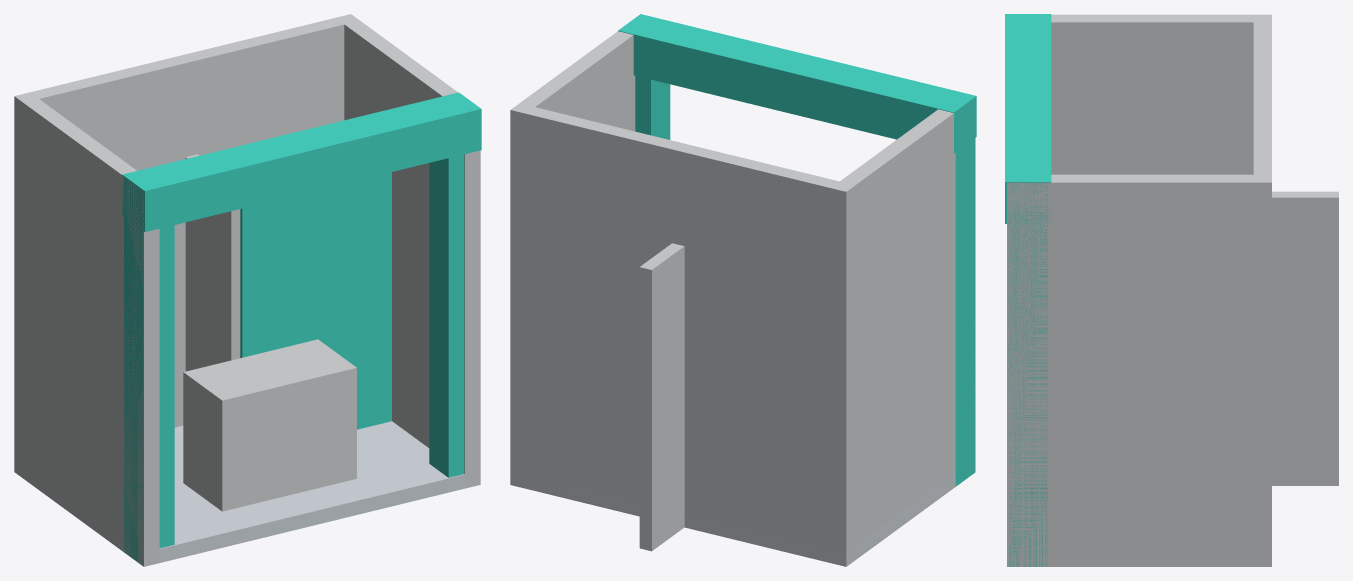
3 renders of one model, left to right at view 1: azimuth 30°, elevation 25°; view 2: azimuth 150°, elevation 25°; view 3: azimuth 270°, elevation 25°, orthographic. The views are drawn at different scales.
Visible parts, largest first — view 1: Exhibition Booth Concept; view 2: Exhibition Booth Concept; view 3: Exhibition Booth Concept.
Boxes of the visible parts, x1=… form: Exhibition Booth Concept: x1=14, y1=14, x2=481, y2=566; Exhibition Booth Concept: x1=510, y1=14, x2=976, y2=566; Exhibition Booth Concept: x1=1005, y1=14, x2=1338, y2=566.
Size of the model in its own units: 3 by 3.2 by 2.52.
